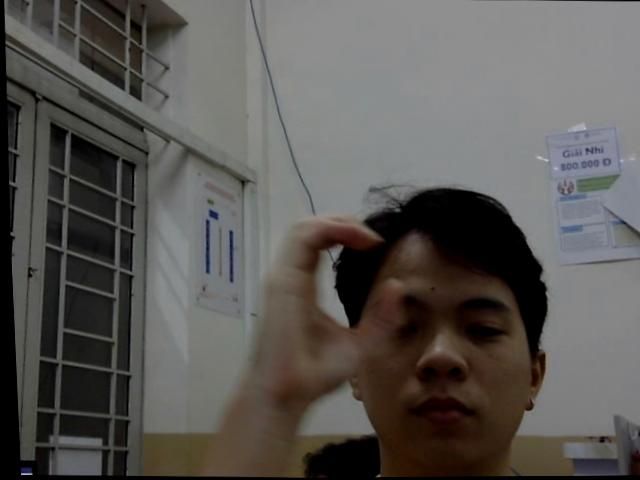C: (248, 209, 406, 394)
